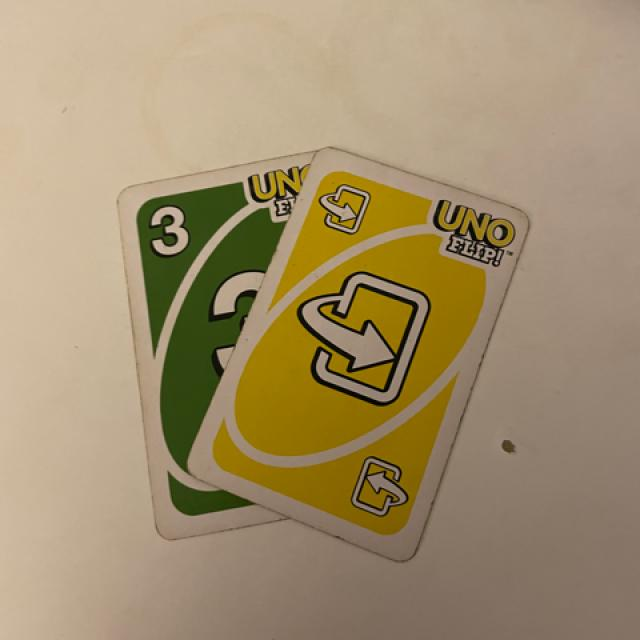lgreen-3: (137, 192, 215, 271)
